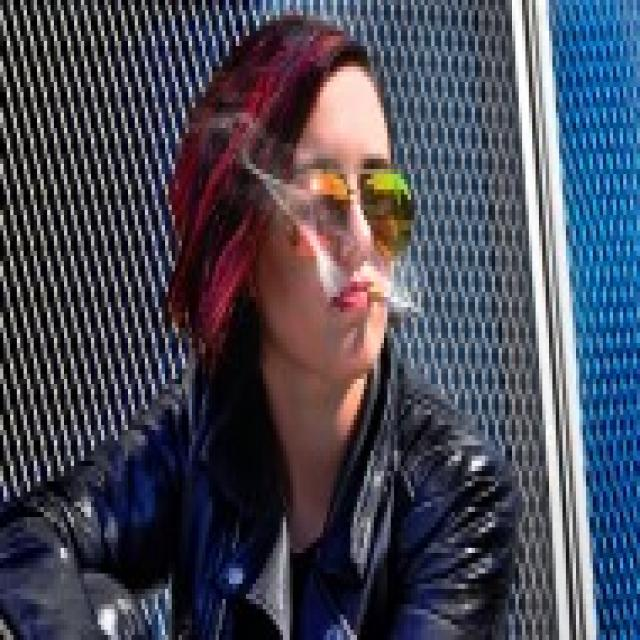smoking: (358, 281, 425, 324)
